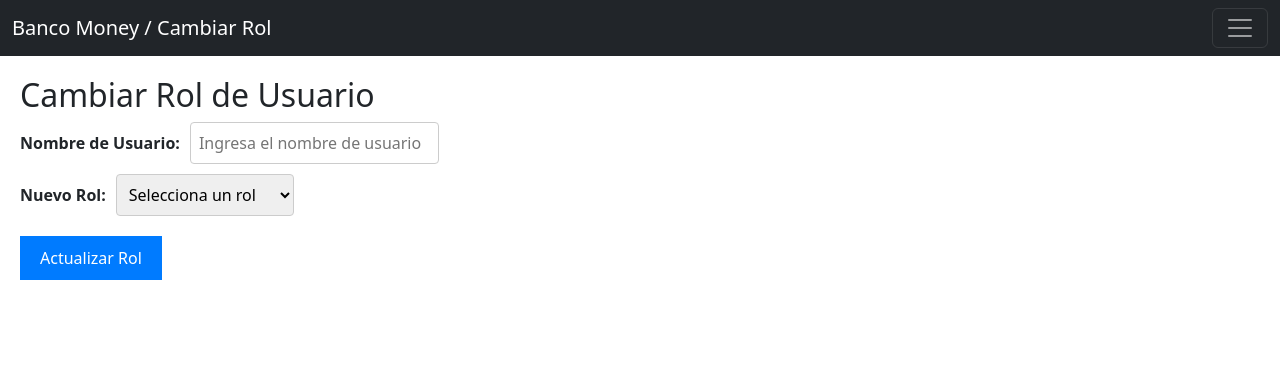
it: Perfil Admin - Cambio de Rol › Debe mostrar un mensaje de error si el rol no se puede actualizar
expect the heading "Cambiar Rol de Usuario" is shown: met, box [20, 73, 375, 116]
Note: Simulamos el llenado del formulario sin seleccionar un nuevo rol
In the field with id "nombreUsuario": [315, 143] box [190, 122, 439, 164], type "cajero1"
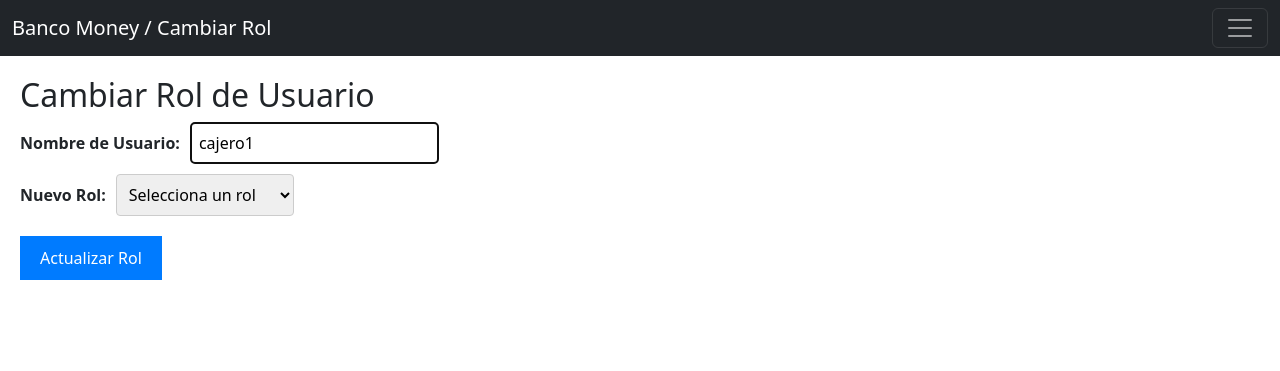
Select "Selecciona un rol" in the dropdown with id "nuevoRol": [205, 195] box [116, 174, 294, 216]
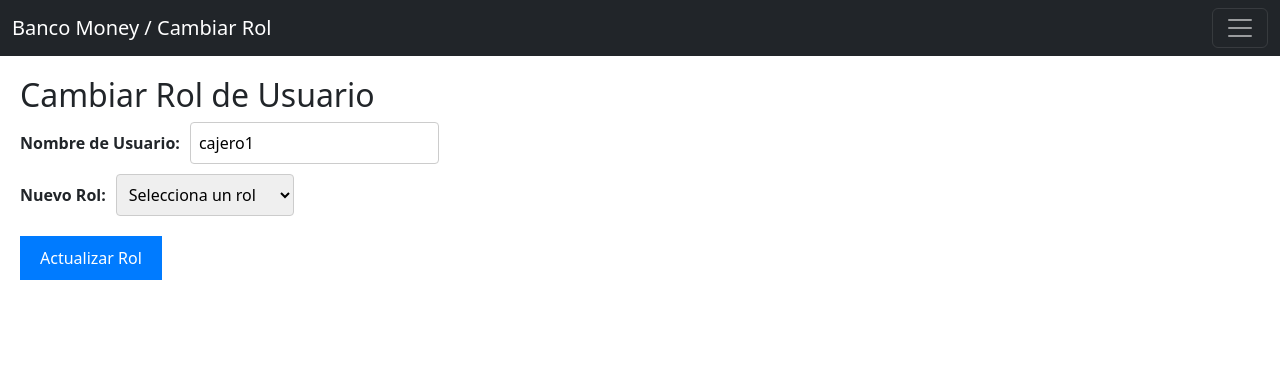
Note: Actualizamos el rol
Click the button with id "btnActualizarRol": [91, 258] box [20, 236, 162, 280]
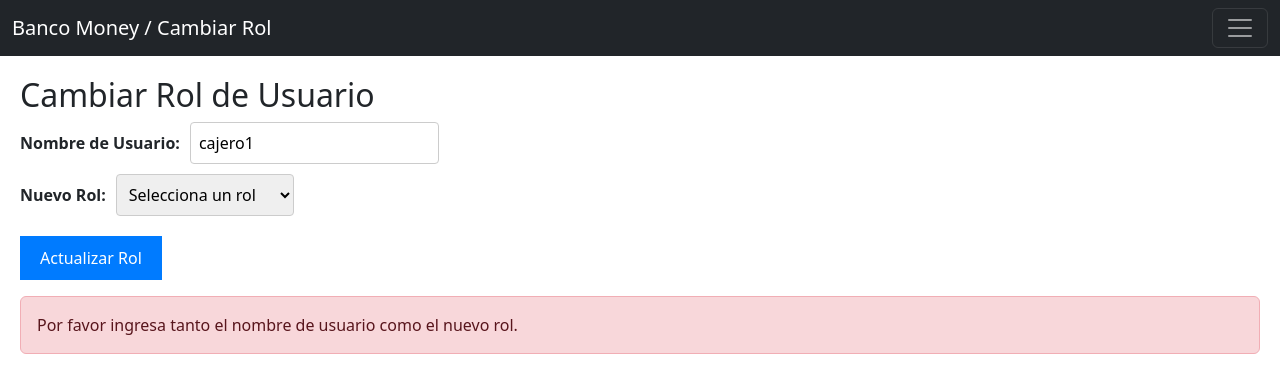
expect the message "Por favor ingresa tanto el nombre de usuario como el nuevo rol." is shown: met, box [20, 296, 1260, 354]
expect the message with class "alert-danger" reads "Por favor ingresa tanto el nombre de usuario como el nuevo rol.": met, box [37, 314, 518, 336]
